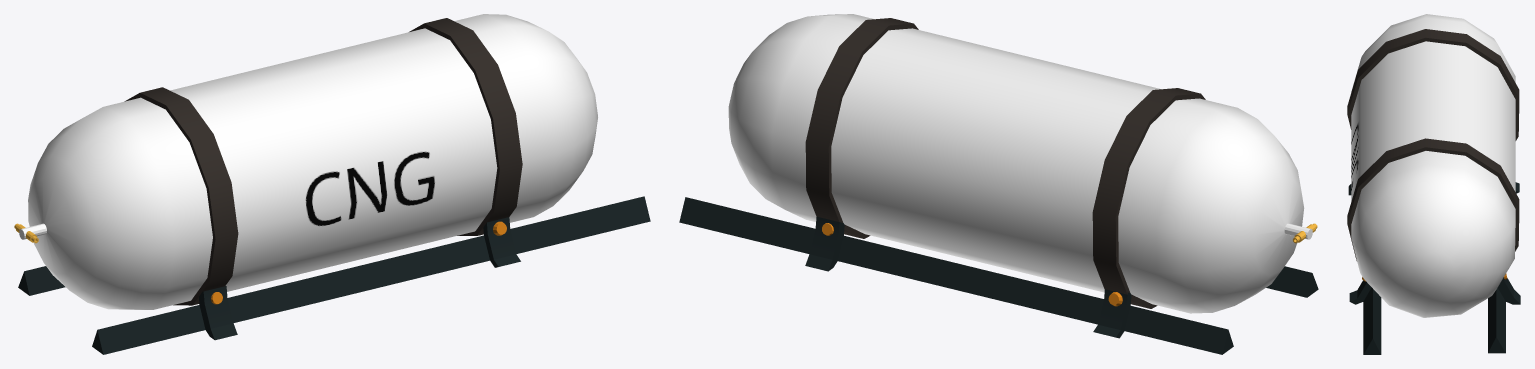
Rendered from CNG Cylinder 1.fbx.
The picture shows the model from 3 angles, left to right: view 1: azimuth 30°, elevation 25°; view 2: azimuth 150°, elevation 25°; view 3: azimuth 270°, elevation 25°; orthographic projection. The views are drawn at different scales.
Visible parts, largest first — view 1: cng_cylinder; view 2: cng_cylinder; view 3: cng_cylinder.
Part boxes in pixels (box(x1,y1,x2,y2)): cng_cylinder: box(14, 14, 650, 354); cng_cylinder: box(679, 14, 1318, 354); cng_cylinder: box(1347, 14, 1520, 354).
Bounding box in the file's own units: 224 × 73.28 × 73.
Materials: 3 (2 with a texture image).
